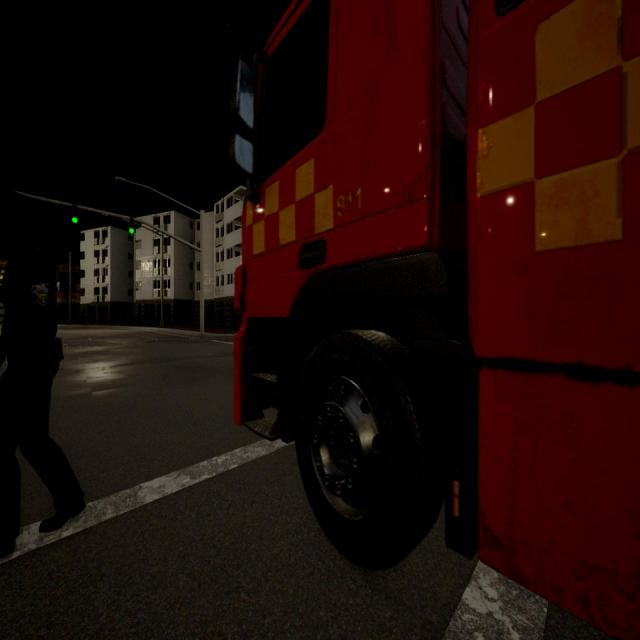Pedestrian: (0, 252, 83, 556)
Vehicle: (237, 0, 640, 635)
traffic_light: (72, 205, 78, 223), (129, 217, 134, 234)
